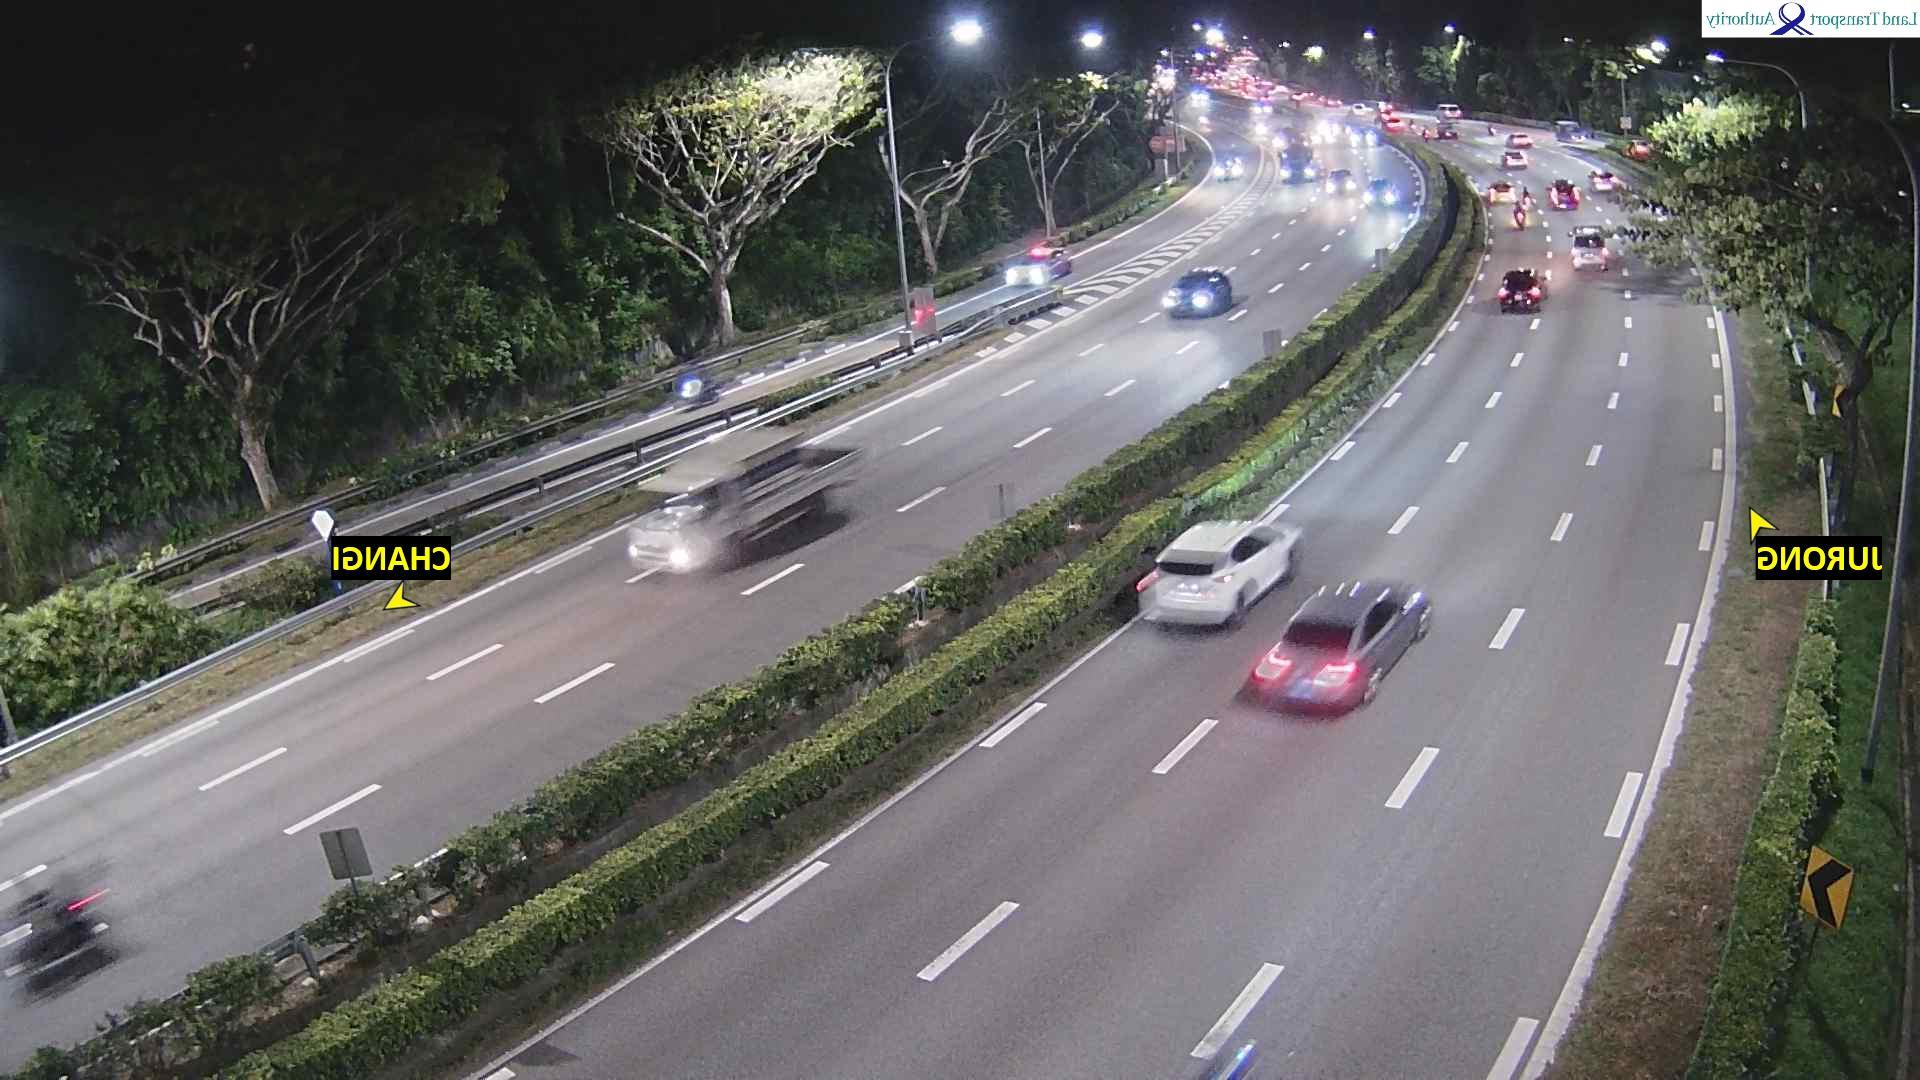incoming: (616, 479, 716, 582), (1153, 276, 1220, 327), (1000, 256, 1050, 289), (1276, 148, 1317, 187), (1361, 182, 1398, 210), (1211, 162, 1242, 185), (671, 380, 700, 404), (1324, 173, 1353, 195), (1348, 125, 1375, 148)
